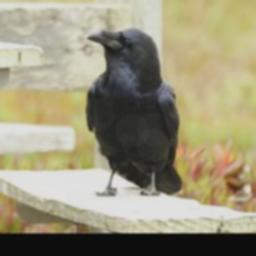Crow: (83, 27, 183, 196)
